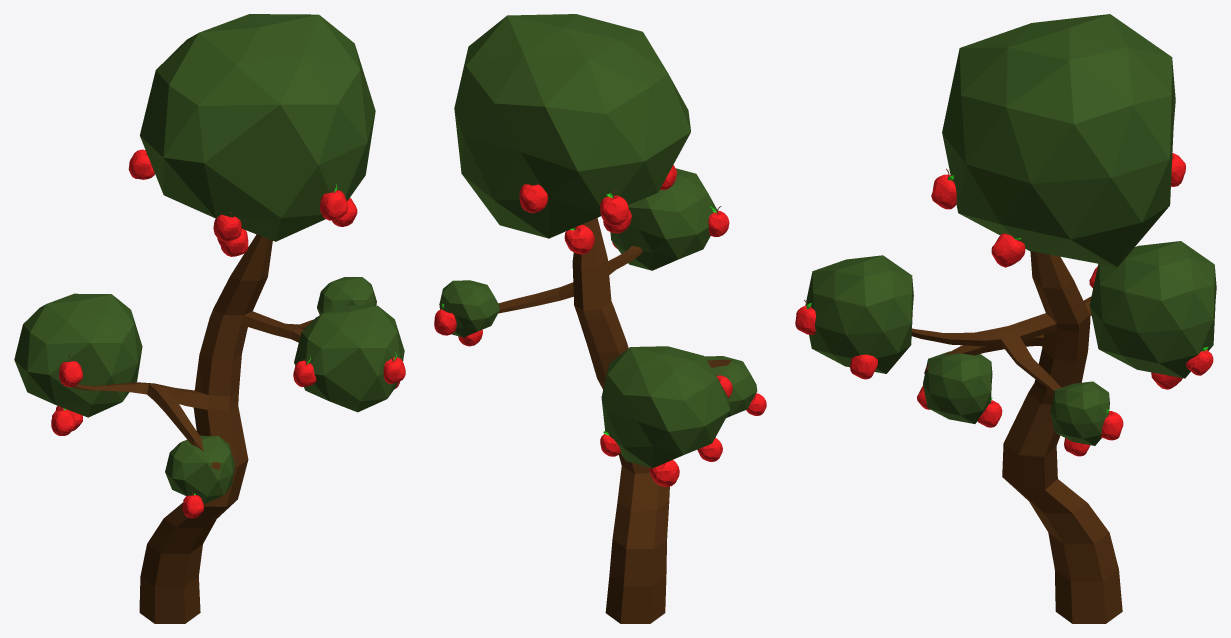
Rendered from AppleTree.fbx.
The picture shows the model from 3 angles, left to right: view 1: azimuth 30°, elevation 25°; view 2: azimuth 150°, elevation 25°; view 3: azimuth 270°, elevation 25°; orthographic projection. The views are drawn at different scales.
Parts seen in each view (by area): view 1: Apple.036; view 2: Apple.036; view 3: Apple.036.
Boxes of the visible parts, x1,y1,x2,y2 form: Apple.036: (14,14,405,623); Apple.036: (434,14,766,623); Apple.036: (795,14,1216,623).
Size of the model in its own units: 252 by 432 by 263.
